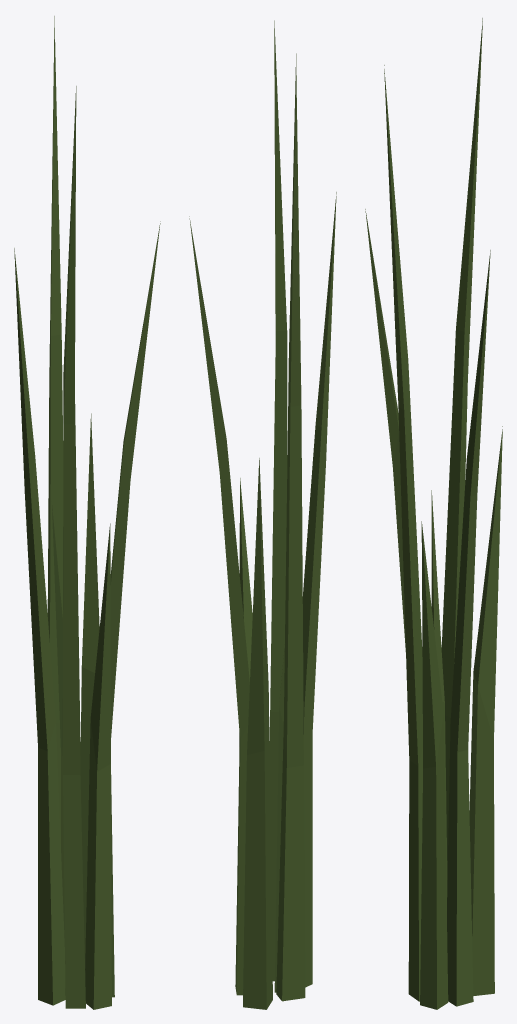
Rendered from High Grass_2.fbx.
The picture shows the model from 3 angles, left to right: view 1: azimuth 30°, elevation 25°; view 2: azimuth 210°, elevation 25°; view 3: azimuth 330°, elevation 25°; orthographic projection.
Visible parts, largest first — view 1: High Grass_2; view 2: High Grass_2; view 3: High Grass_2.
Boxes of the visible parts, x1,y1,x2,y2 form: High Grass_2: (14, 16, 160, 1009); High Grass_2: (189, 20, 336, 1009); High Grass_2: (365, 18, 502, 1009).
Bounding box in the file's own units: 0.4548 × 3.05 × 0.3498.
